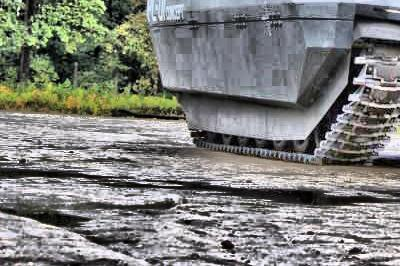tanks: (146, 1, 400, 165)
